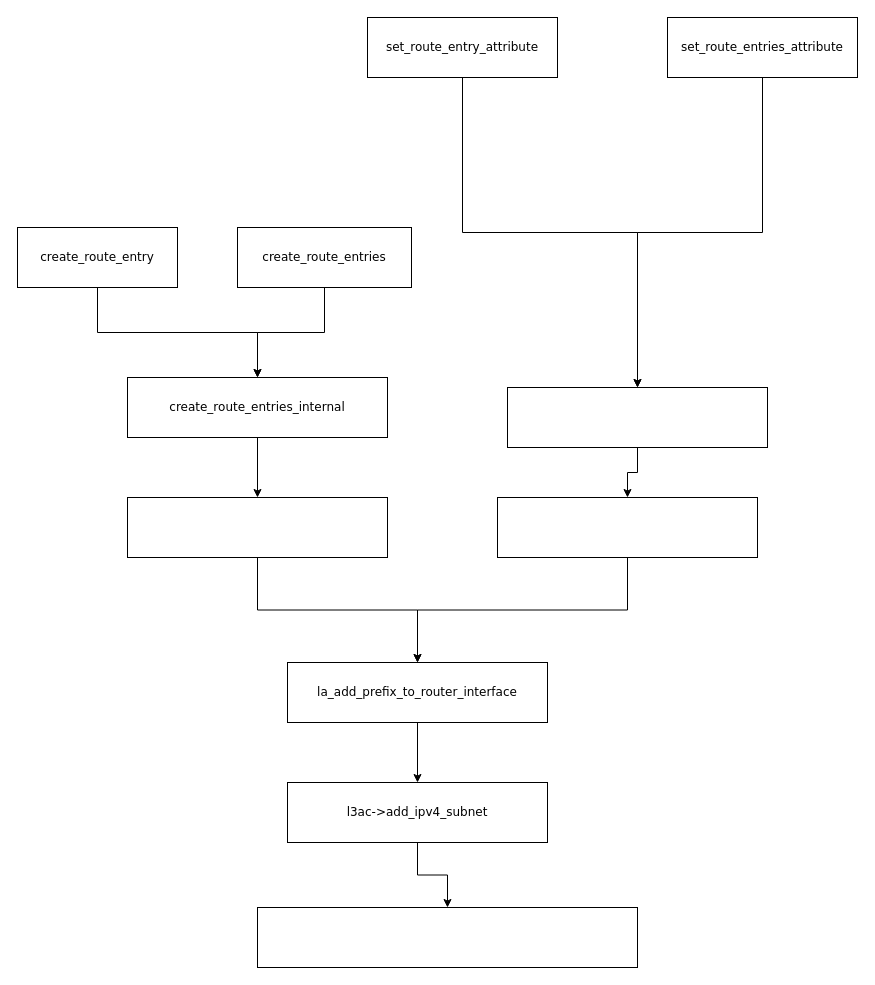
Some shapes in this 875 by 985 pixel diagram are drawn without their labels. Each missing label, with the centre of its shape:
la_vrf_port_common_pacgbakpg::add_ip_subnet: the point at 447,937
route_entry_create_or_prepare: the point at 257,527
route_update_nh_change_to_rif: the point at 627,527
set_route_entries_attribute_internal: the point at 637,417
